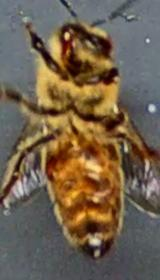varroa_mite: (27, 148, 70, 184)
